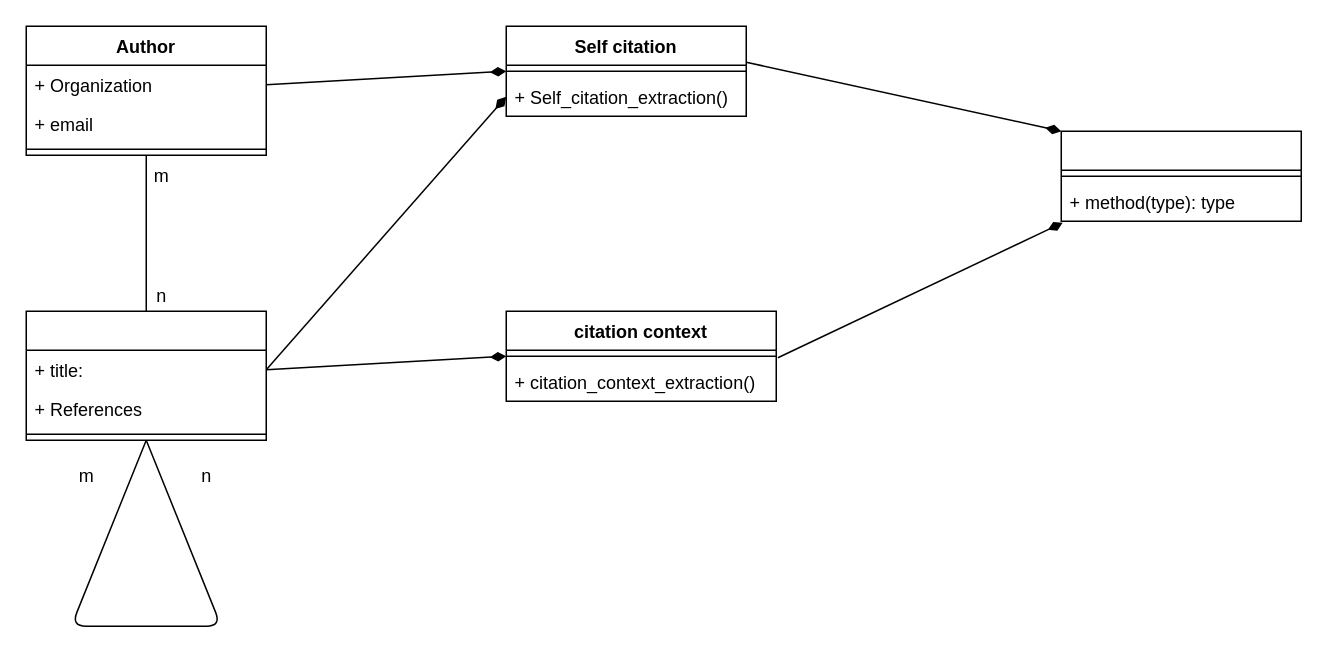
Image size: 1328x654. Some labels were removed from this diagram. Each missing label, with the box of its shape:
Anamalous classification: (1060, 130, 1301, 221)
Paper: (25, 310, 266, 440)
